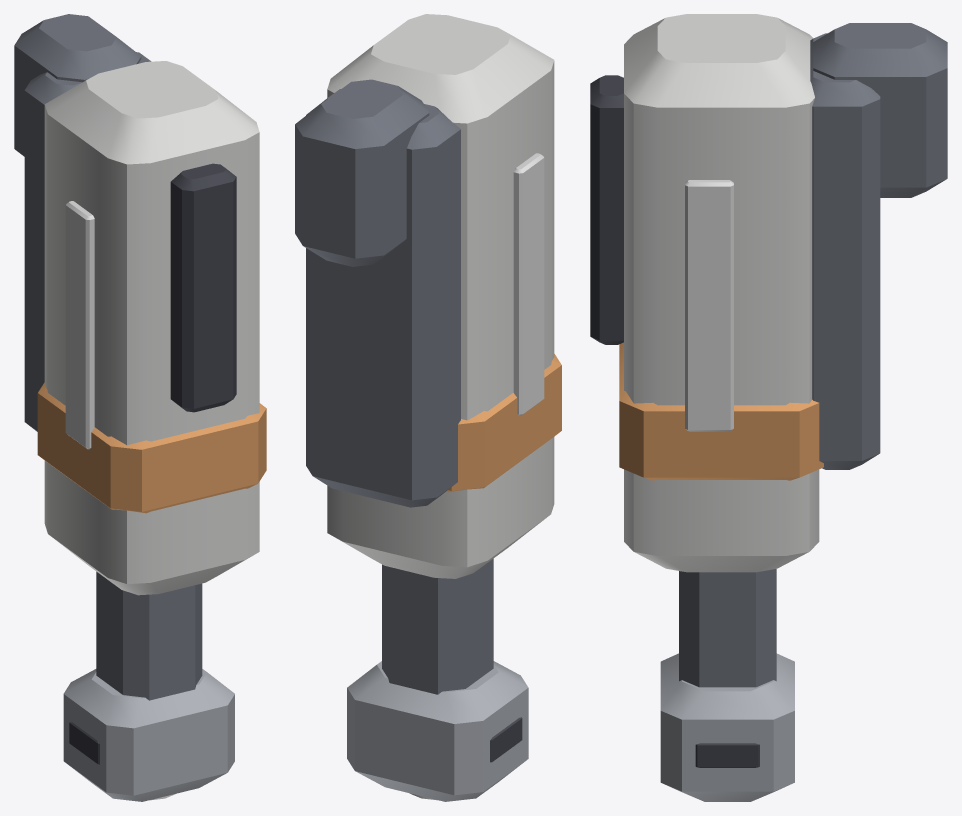
Rendered from gear_blaster_garde.glb.
3 renders of one model, left to right at view 1: azimuth 30°, elevation 25°; view 2: azimuth 150°, elevation 25°; view 3: azimuth 270°, elevation 25°, orthographic. The views are drawn at different scales.
Parts seen in each view (by area): view 1: gun__blaster_garde, gun__blaster_garde_glow; view 2: gun__blaster_garde, gun__blaster_garde_glow; view 3: gun__blaster_garde, gun__blaster_garde_glow.
Boxes of the visible parts, left/top/right/bottom form: gun__blaster_garde: left=14, top=14, right=266, bottom=801; gun__blaster_garde_glow: left=65, top=201, right=175, bottom=800; gun__blaster_garde: left=295, top=14, right=561, bottom=801; gun__blaster_garde_glow: left=410, top=153, right=544, bottom=800; gun__blaster_garde: left=590, top=14, right=947, bottom=801; gun__blaster_garde_glow: left=685, top=180, right=733, bottom=431.
Bounding box in the file's own units: 0.0664 × 0.271 × 0.117.
